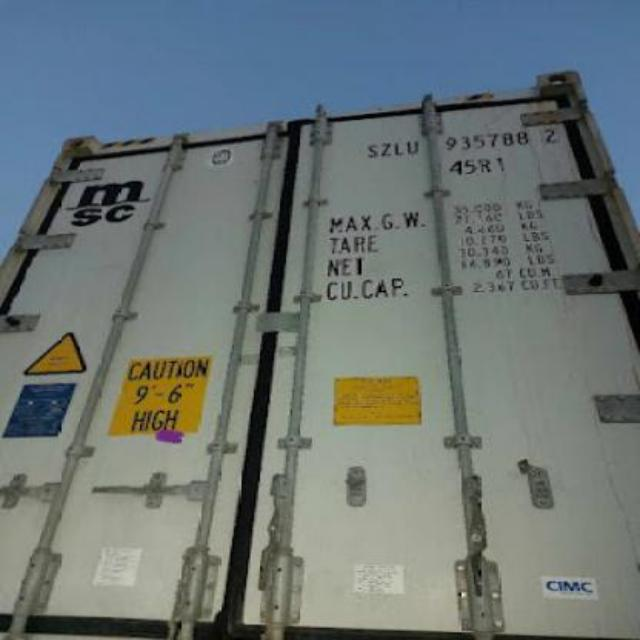2: (546, 128, 556, 142)
3: (462, 133, 472, 151)
5: (474, 134, 486, 150)
7: (488, 132, 500, 146)
8: (502, 130, 514, 146), (516, 129, 528, 145)
9: (446, 135, 458, 151)
L: (394, 141, 406, 157)
S: (368, 144, 378, 158)
U: (406, 140, 422, 156)
Z: (380, 141, 392, 159)
